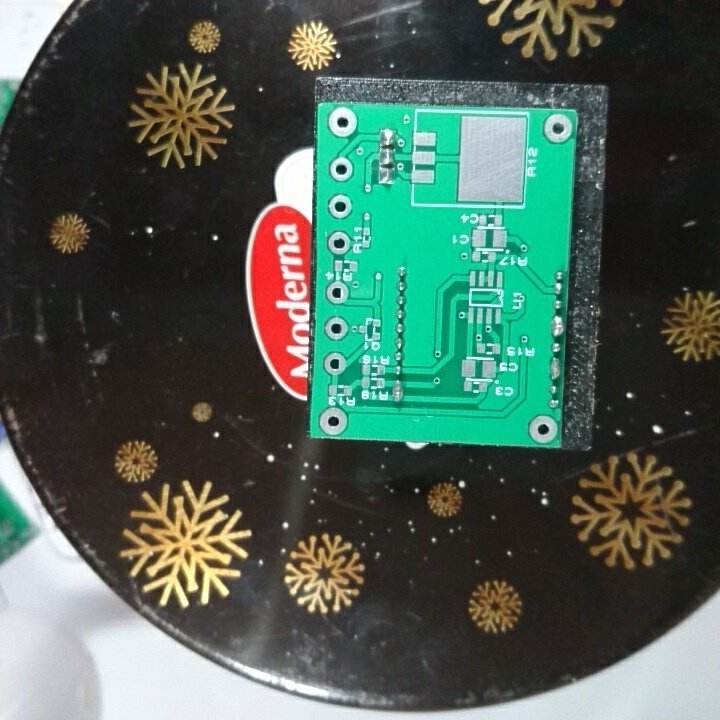F: (325, 103, 360, 140), (541, 112, 574, 146), (317, 407, 351, 437), (526, 412, 557, 444), (326, 193, 355, 221), (325, 228, 354, 256), (328, 153, 355, 183), (325, 278, 351, 305), (321, 349, 348, 375), (324, 314, 349, 340)
P: (549, 312, 565, 339), (548, 355, 562, 382), (392, 378, 405, 406)
